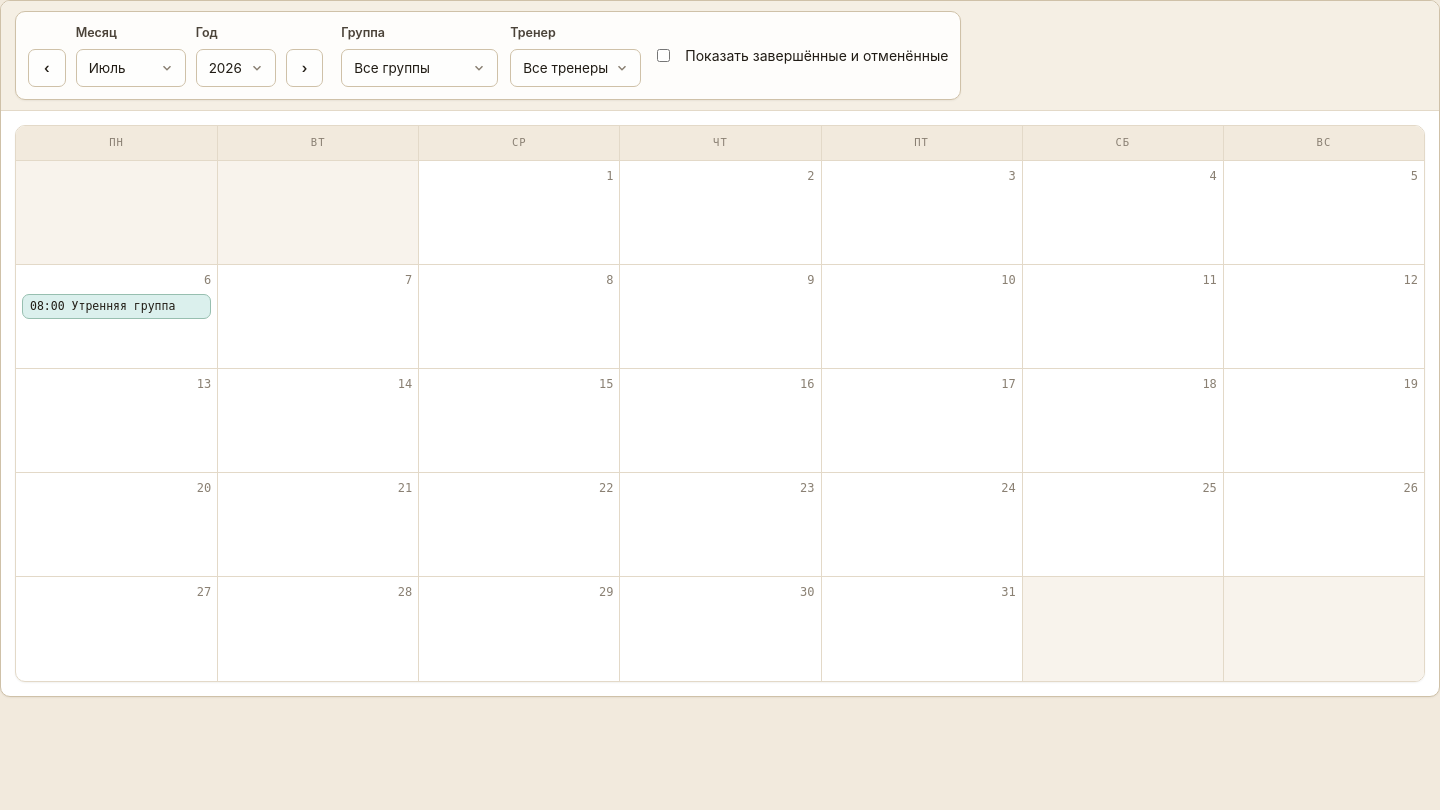
Test: TrainingsCalendar › opens the detail popup with the API's occupancy, status and court
Step 1. Click the button with aria-label "2026-07-06 08:00–09:30" → [117, 306], box [22,294,211,319]
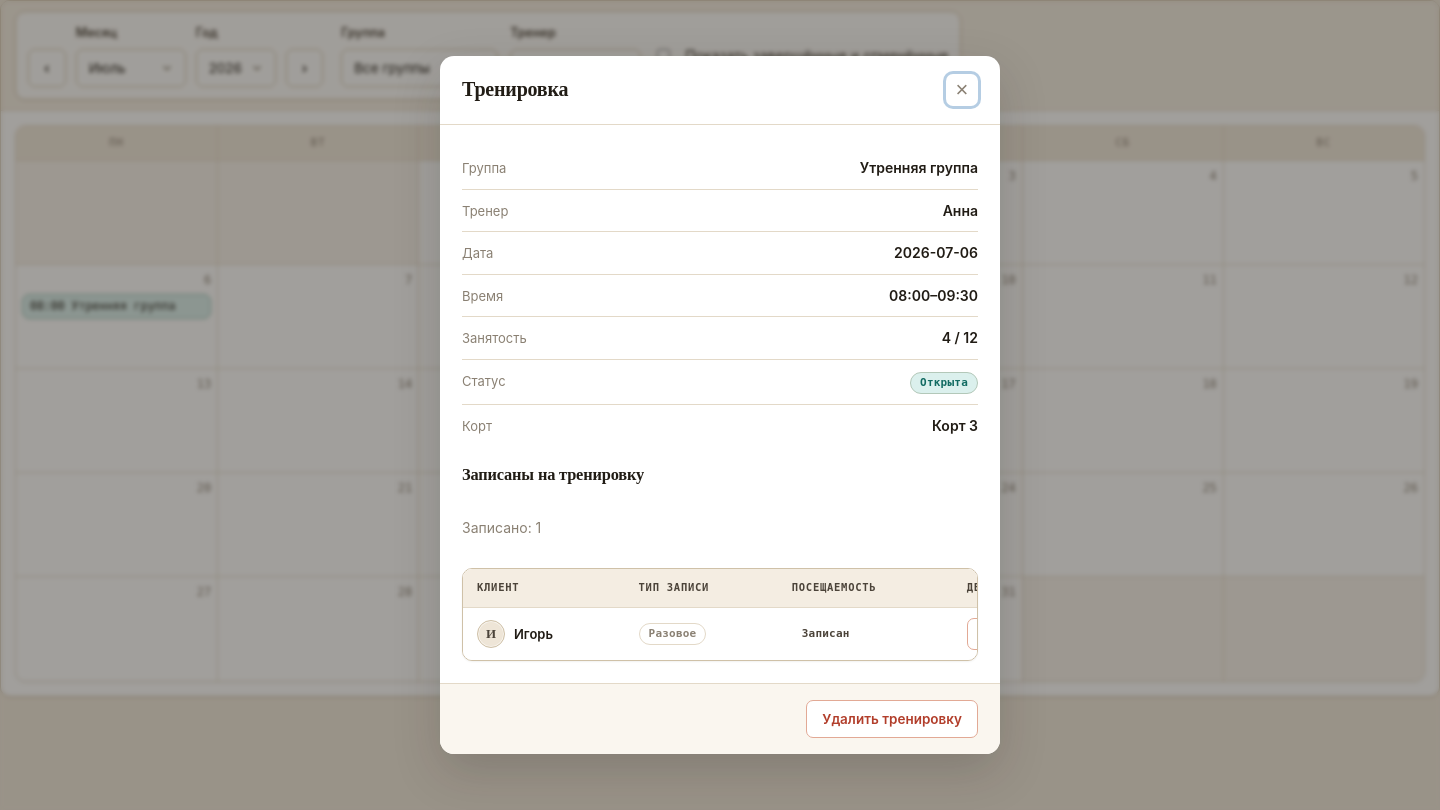
Expected: the text "4 / 12" is shown, [942,327,978,348]
Expected: the text "Открыта" is shown, [910,372,978,394]
Expected: the text "Корт 3" is shown, [932,415,978,436]
